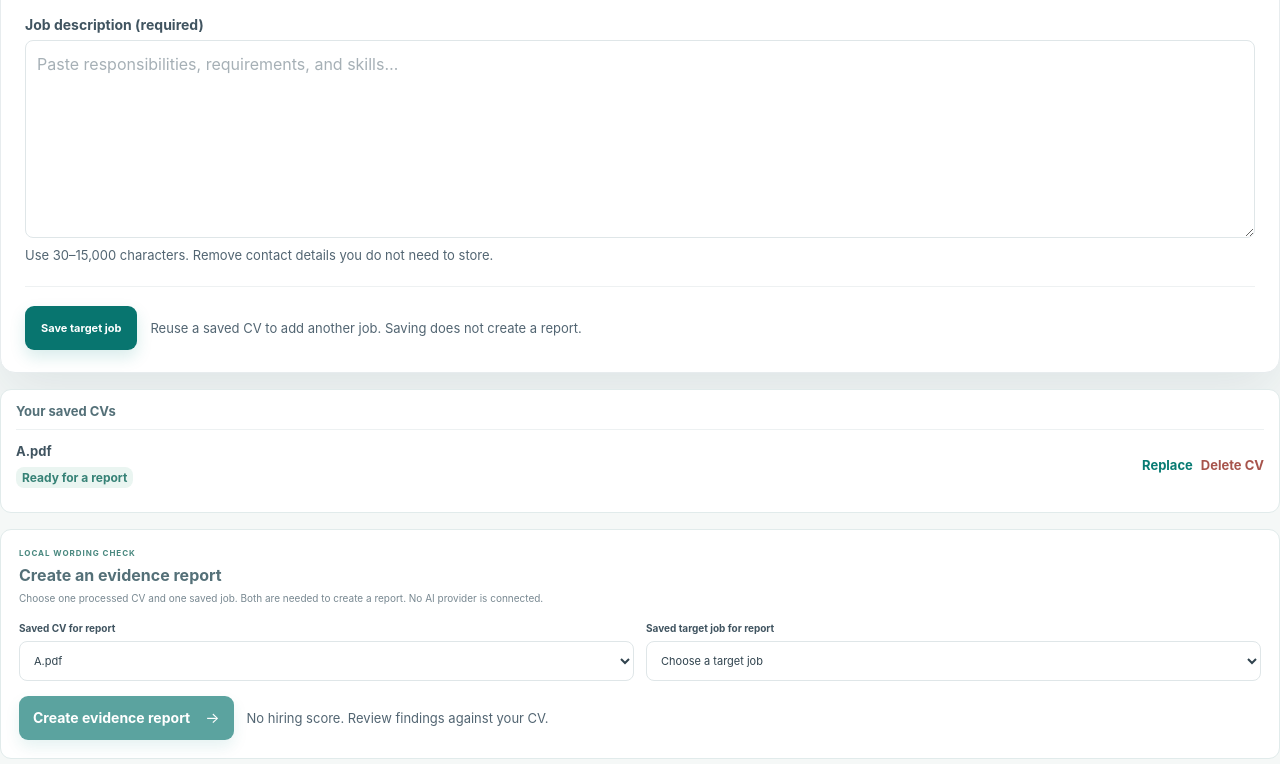
Test case: cancels replacement without modifying saved records and restores focus
The image size is (1280, 764).
(page scrolled)
Click the button with aria-label "Replace A.pdf" at (1167, 465), box [1142, 443, 1193, 487]
(page scrolled)
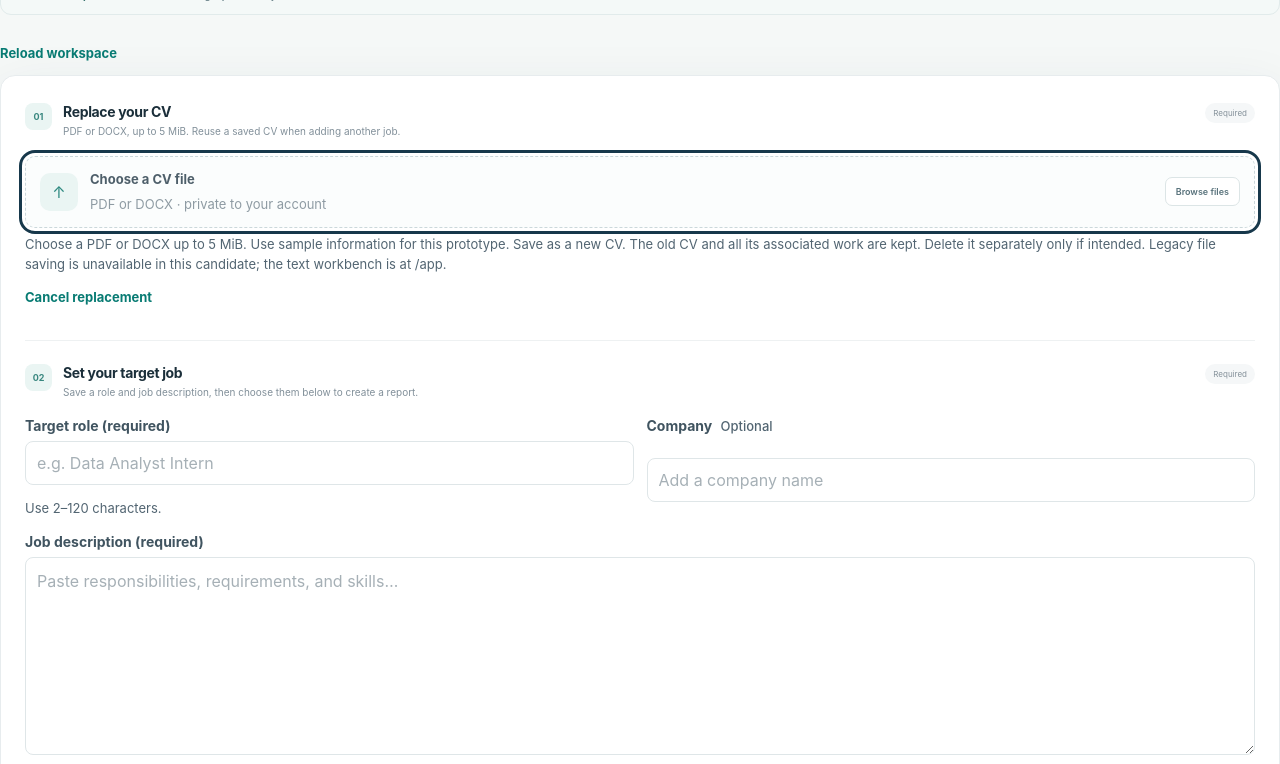
Click the button "Cancel replacement" at (89, 297), box [25, 275, 152, 319]
(page scrolled)
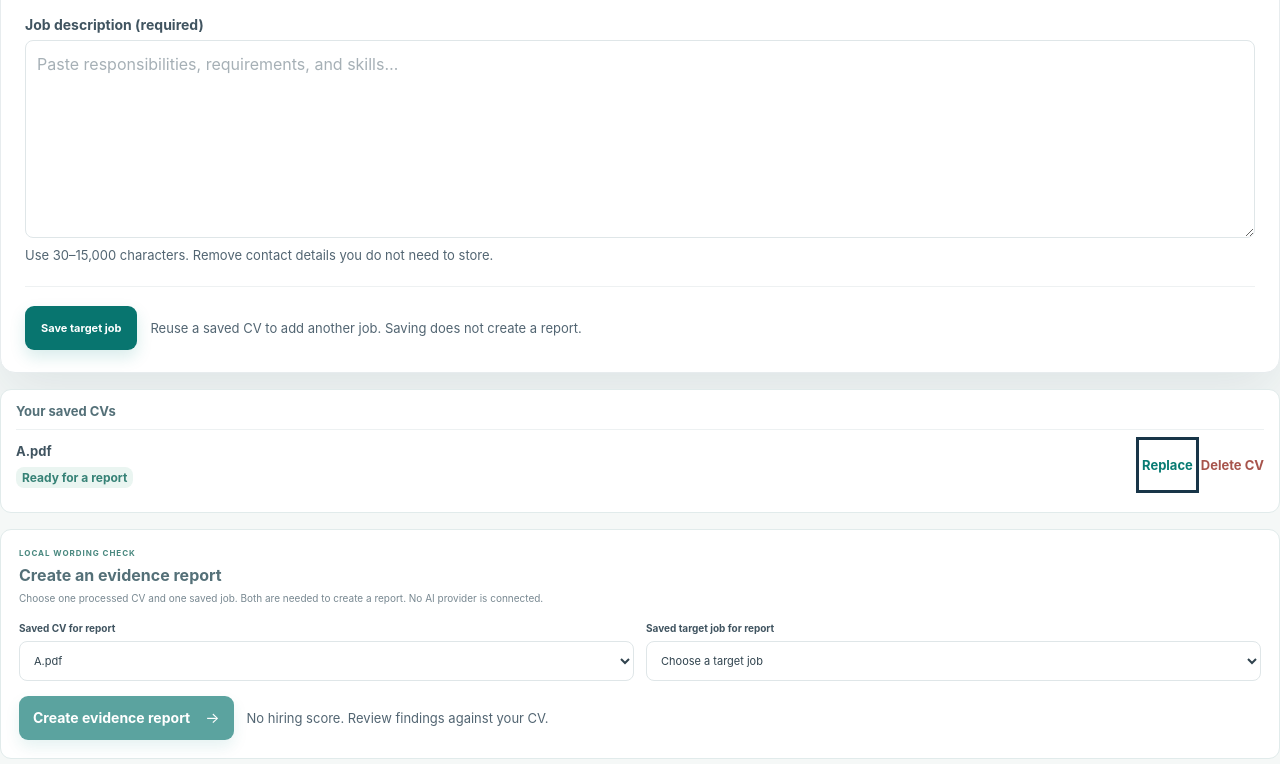
Expected: the button with aria-label "Delete CV A.pdf" is shown, [1201, 443, 1264, 487]
Expected: the heading "Replace your CV" is gone
